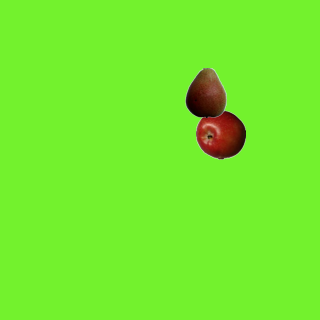Apple Braeburn: (195, 109, 245, 159)
Pear Forelle: (180, 67, 230, 117)
